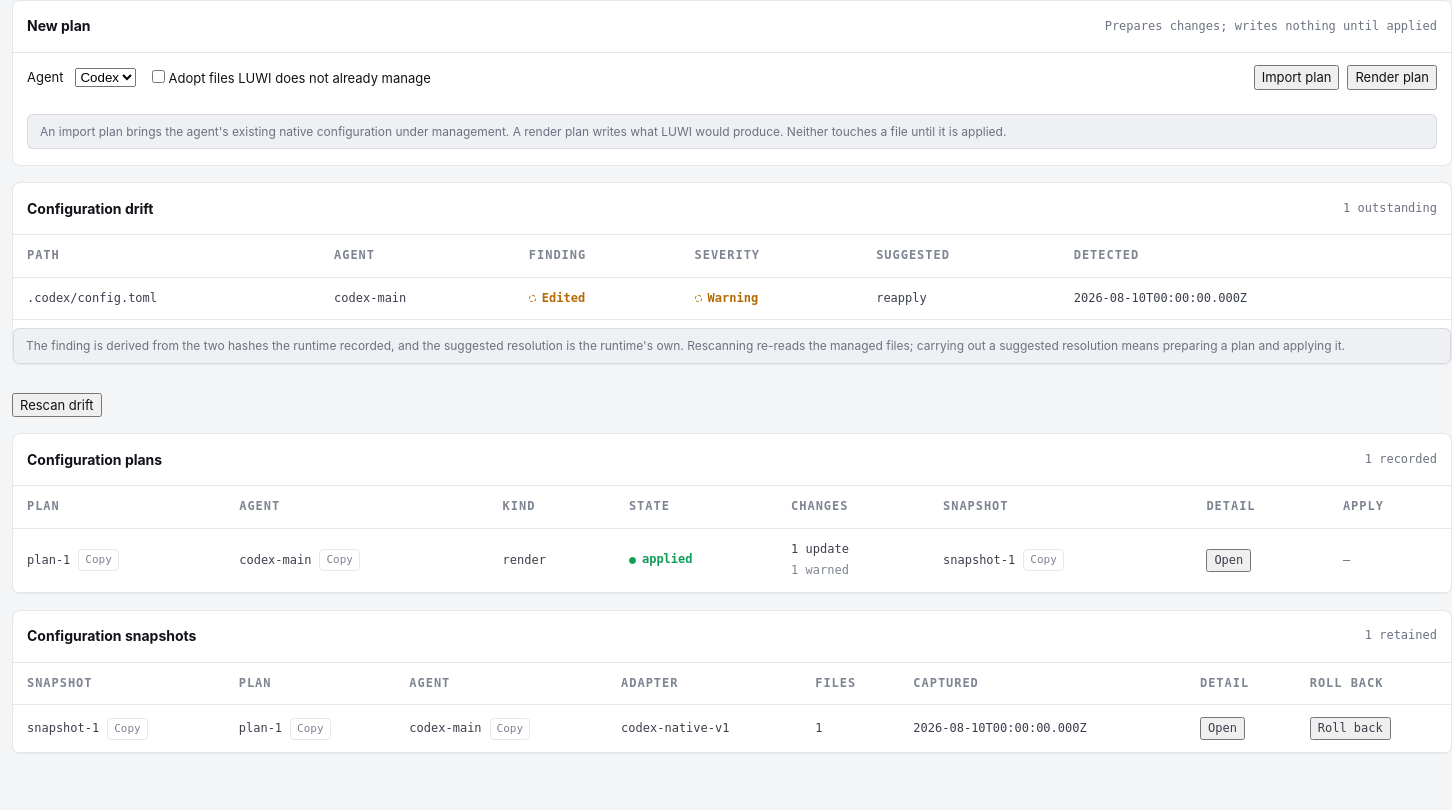
Test: ConfigView mutations › creates a plan from the form at whichever endpoint was pressed
The image size is (1452, 810).
Click the button "Render plan": [1392, 77] box [1347, 65, 1437, 90]
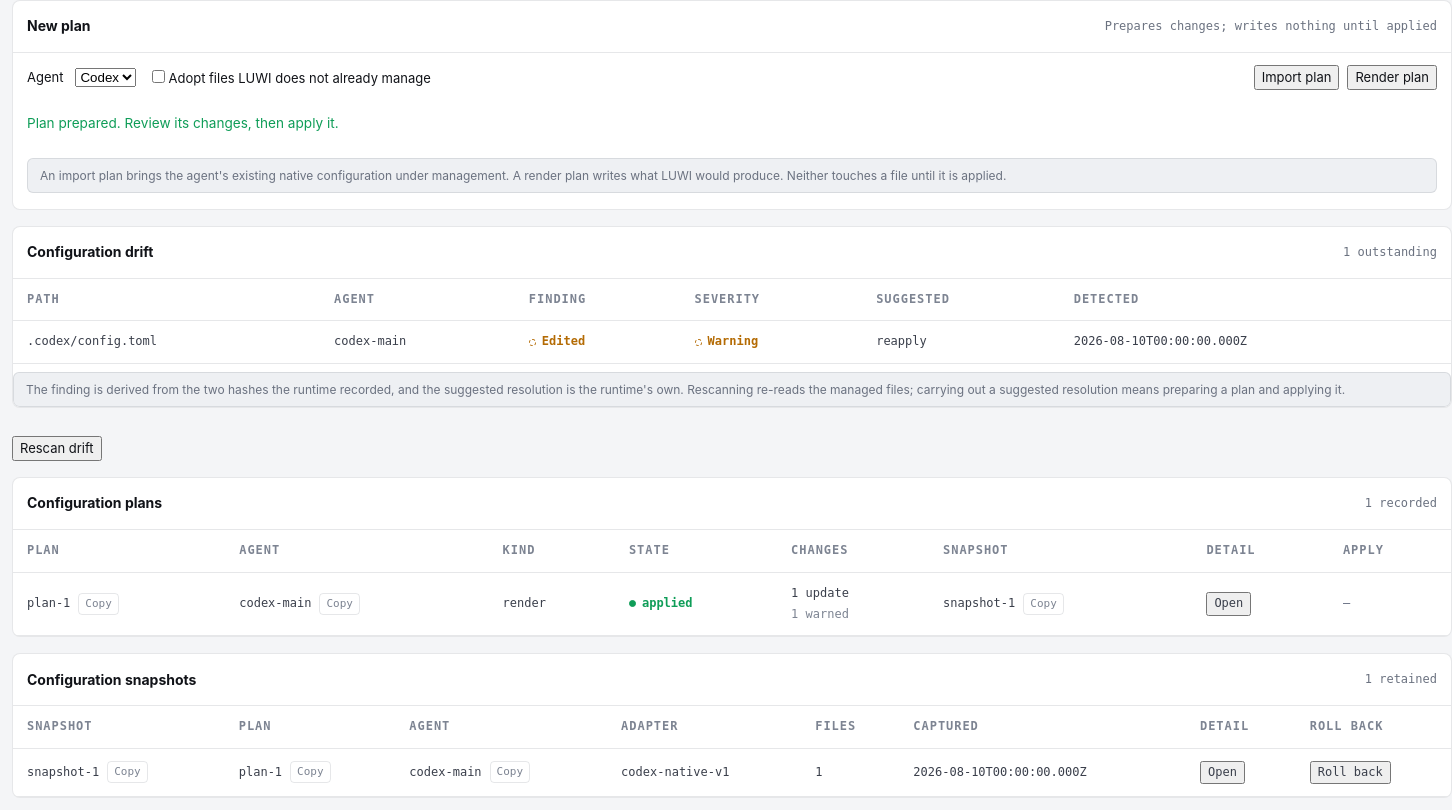
Result: the text "Plan prepared. Review its changes, then apply it." is shown at [27, 115, 339, 131]
